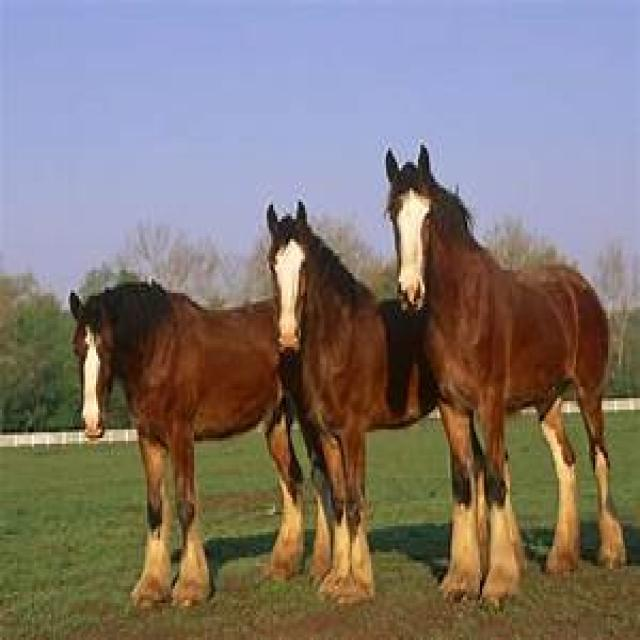horse: (70, 202, 416, 612), (386, 148, 629, 606)
